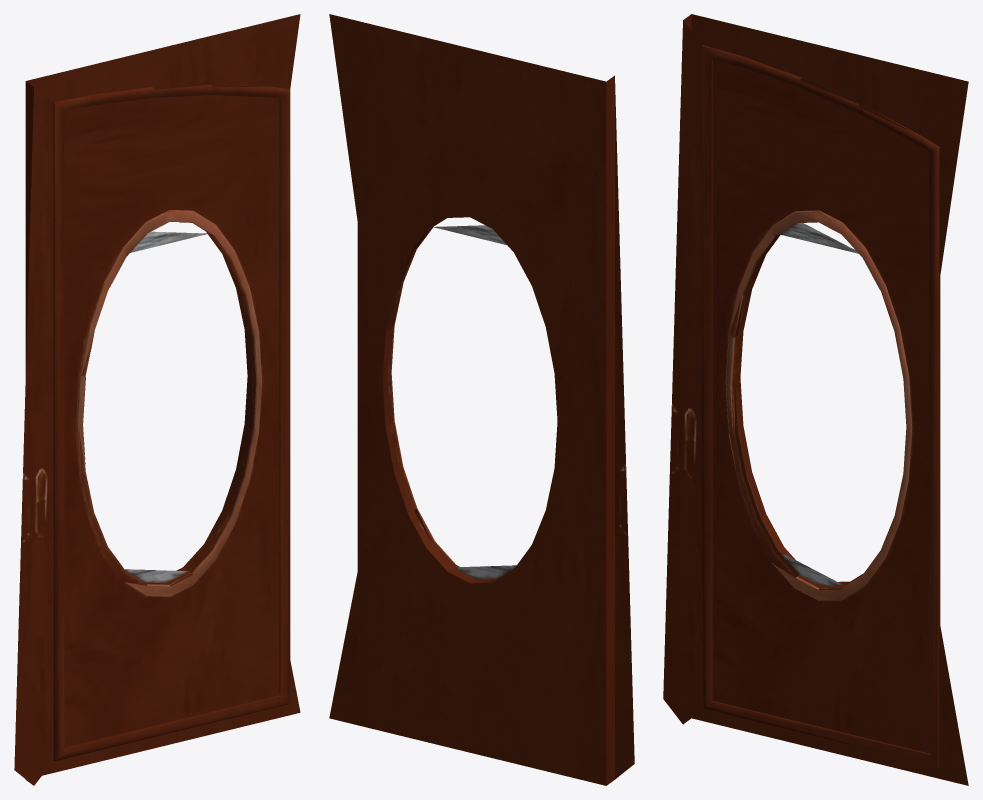
File: link_3__surface_board-14.glb
3 renders of one model, left to right at view 1: azimuth 30°, elevation 25°; view 2: azimuth 150°, elevation 25°; view 3: azimuth 330°, elevation 25°, orthographic.
Parts seen in each view (by area): view 1: geometry_0; view 2: geometry_0; view 3: geometry_0.
Boxes of the visible parts, <box> form: geometry_0: <box>14,14,300,785</box>; geometry_0: <box>329,14,634,785</box>; geometry_0: <box>663,14,968,785</box>.
Bounding box in the file's own units: 0.5729 × 1.3 × 0.0348.
Materials: 1 (1 with a texture image).
